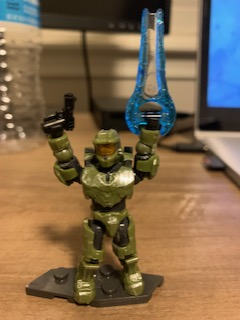chief: (40, 111, 164, 302)
pistol: (43, 93, 76, 138)
spartan: (42, 113, 166, 304)
up: (42, 114, 164, 212)
